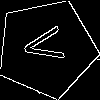V: (22, 23, 74, 66)
